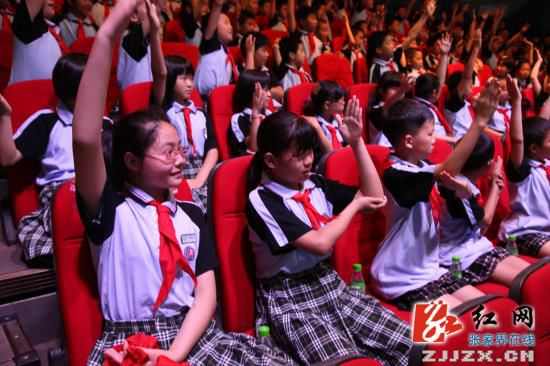handsup: (73, 6, 237, 359), (248, 95, 394, 362), (386, 77, 509, 301), (140, 2, 231, 202)
